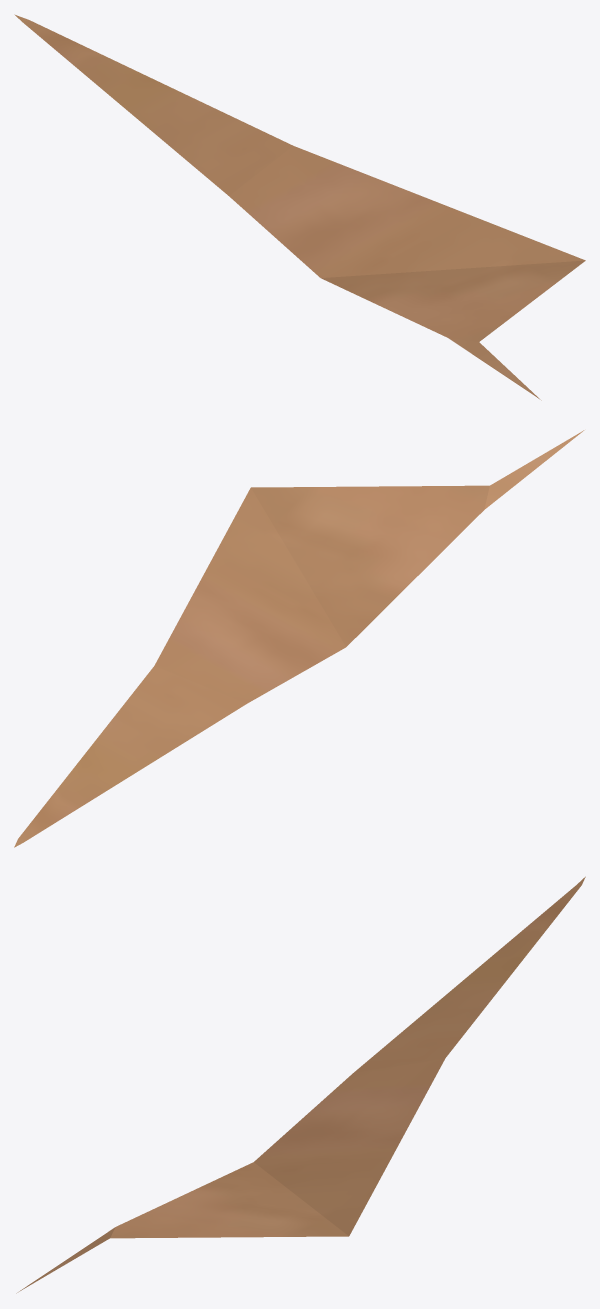
3 renders of one model, top to bottom at view 1: azimuth 30°, elevation 25°; view 2: azimuth 150°, elevation 25°; view 3: azimuth 330°, elevation 25°, orthographic. The views are drawn at different scales.
Size of the model in its own units: 0.0757 by 0.0161 by 0.3912.
Materials: 1 (1 with a texture image).
